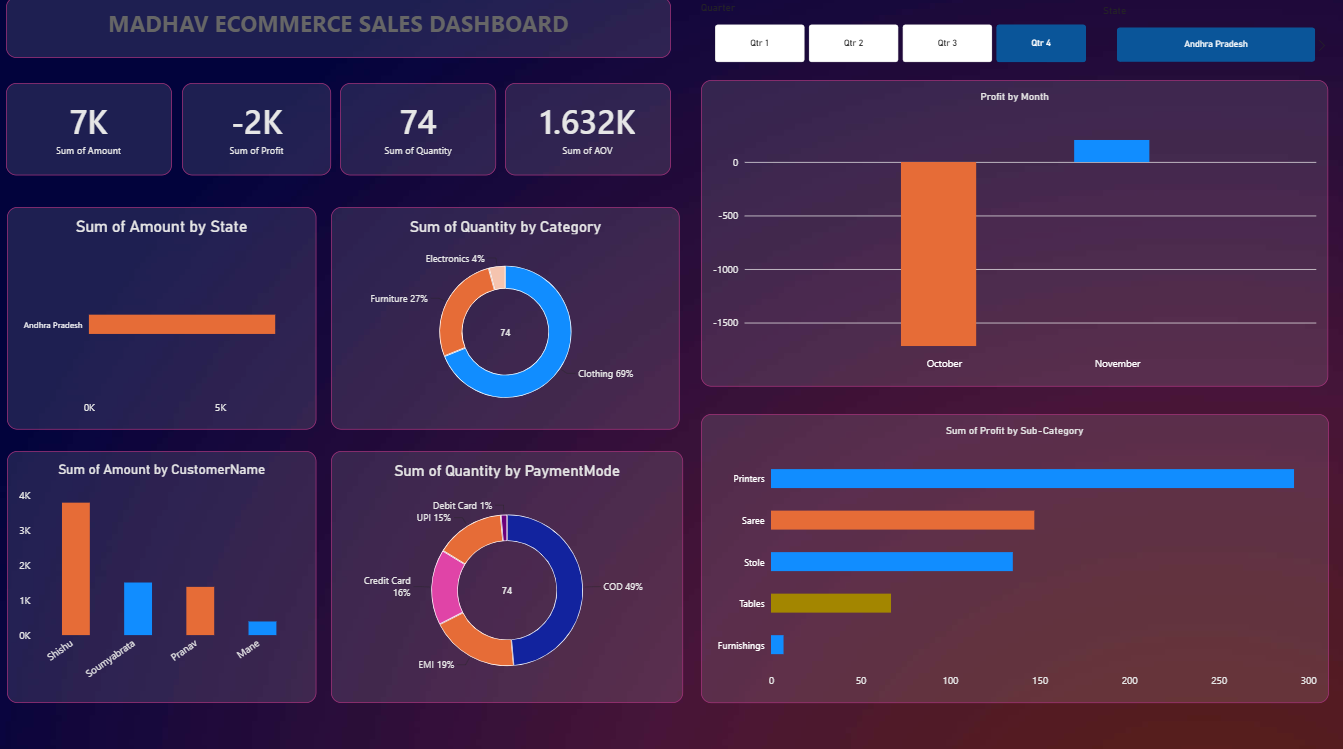

This screenshot's page, from the dashboard's own definition file:
{"tool":"powerbi","page":{"name":"Page 1","canvas":[1920,1080],"ordinal":0},"visuals":[{"type":"textbox","box":[9.4,0,280.7,99.1],"z":0},{"type":"textbox","box":[9,189.5,281,150],"z":1000},{"type":"textbox","box":[9,405,281,150],"z":2000},{"type":"textbox","box":[8.3,0,950,86.7],"z":3000},{"type":"columnChart","title":"Profit by Month","fields":{"Category":["Orders.Order Date.Variation.Date Hierarchy.Month"],"Y":["Sum(Details.Profit)"]},"box":[1001.5,118.4,896.5,437.6],"z":4000},{"type":"barChart","fields":{"Category":["Details.Sub-Category"],"Y":["Sum(Details.Profit)"]},"box":[1001.7,595,896.7,413.3],"z":5000},{"type":"donutChart","fields":{"Category":["Details.Category"],"Y":["Sum(Details.Quantity)"]},"box":[473.3,300,498.3,318.3],"z":6000},{"type":"donutChart","fields":{"Category":["Details.PaymentMode"],"Y":["Sum(Details.Quantity)"]},"box":[473.3,648.3,503.3,360],"z":7000},{"type":"cardVisual","fields":{"Data":["Sum(Details.Amount)"]},"box":[8.3,123.3,236.7,131.7],"z":8000},{"type":"cardVisual","fields":{"Data":["Sum(Details.Profit)"]},"box":[260,123.3,213.3,131.7],"z":9000},{"type":"cardVisual","fields":{"Data":["Sum(Details.Quantity)"]},"box":[485,123.3,223.3,131.7],"z":10000},{"type":"cardVisual","fields":{"Data":["Sum(Details.AOV)"]},"box":[721.7,123.3,236.7,131.7],"z":11000},{"type":"barChart","fields":{"Category":["Orders.State"],"Y":["Sum(Details.Amount)"]},"box":[10,300,441.7,318.3],"z":12000},{"type":"columnChart","fields":{"Category":["Orders.CustomerName"],"Y":["Sum(Details.Amount)"]},"box":[10,648,442,360],"z":13000},{"type":"advancedSlicerVisual","fields":{"Values":["Orders.Order Date.Variation.Date Hierarchy.Quarter"]},"box":[1001.7,6.7,573.3,86.7],"z":14000},{"type":"advancedSlicerVisual","fields":{"Values":["Orders.State"]},"box":[1575,11.7,323.3,81.7],"z":15000}]}

Visuals, with their boxes in screenshot pixels (x1, y1, x2, y2), scaled from the page's 1920x1080 canvas onto the 1343x749 screenshot:
textbox: pyautogui.locateOnScreen(7, 0, 203, 69)
textbox: pyautogui.locateOnScreen(6, 131, 203, 235)
textbox: pyautogui.locateOnScreen(6, 281, 203, 385)
textbox: pyautogui.locateOnScreen(6, 0, 670, 60)
"Profit by Month" columnChart: pyautogui.locateOnScreen(701, 82, 1328, 386)
barChart - Details.Sub-Category x Sum(Details.Profit): pyautogui.locateOnScreen(701, 413, 1328, 699)
donutChart - Details.Category x Sum(Details.Quantity): pyautogui.locateOnScreen(331, 208, 680, 429)
donutChart - Details.PaymentMode x Sum(Details.Quantity): pyautogui.locateOnScreen(331, 450, 683, 699)
cardVisual - Sum(Details.Amount): pyautogui.locateOnScreen(6, 86, 171, 177)
cardVisual - Sum(Details.Profit): pyautogui.locateOnScreen(182, 86, 331, 177)
cardVisual - Sum(Details.Quantity): pyautogui.locateOnScreen(339, 86, 495, 177)
cardVisual - Sum(Details.AOV): pyautogui.locateOnScreen(505, 86, 670, 177)
barChart - Orders.State x Sum(Details.Amount): pyautogui.locateOnScreen(7, 208, 316, 429)
columnChart - Orders.CustomerName x Sum(Details.Amount): pyautogui.locateOnScreen(7, 449, 316, 699)
advancedSlicerVisual - Orders.Order Date.Variation.Date Hierarchy.Quarter: pyautogui.locateOnScreen(701, 5, 1102, 65)
advancedSlicerVisual - Orders.State: pyautogui.locateOnScreen(1102, 8, 1328, 65)
